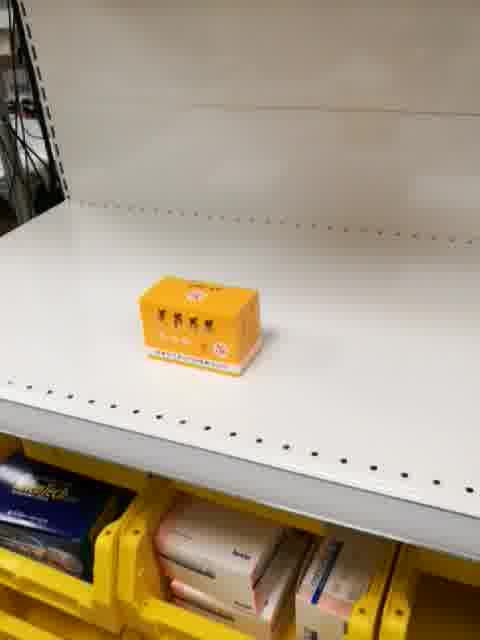jasminetea: (137, 272, 262, 380)
